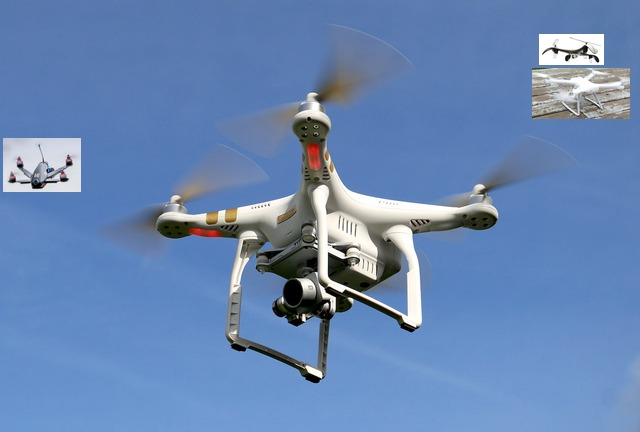drone: (140, 75, 499, 381), (532, 68, 630, 119), (3, 138, 81, 192), (539, 34, 604, 65)
